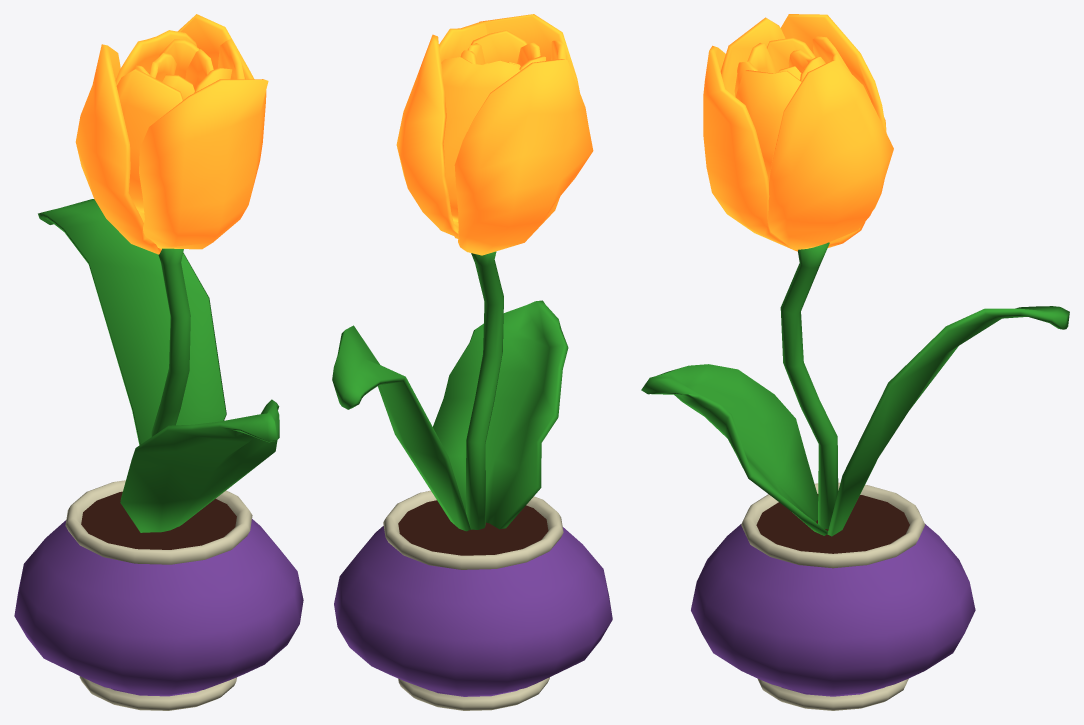
Rendered from tulipane3.glb.
The picture shows the model from 3 angles, left to right: view 1: azimuth 30°, elevation 25°; view 2: azimuth 150°, elevation 25°; view 3: azimuth 270°, elevation 25°; orthographic projection. The views are drawn at different scales.
Parts seen in each view (by area): view 1: Cylinder.008_Material.002_0, Tulip.002_TulipBase_0, Plane.001, Plane.004, Cylinder.008_Material.001_0, Cylinder.009_Material.003_0, Cylinder.010_Material.004_0; view 2: Tulip.002_TulipBase_0, Cylinder.008_Material.002_0, Plane.004, Plane.001, Cylinder.008_Material.001_0, Cylinder.010_Material.004_0, Cylinder.009_Material.003_0; view 3: Tulip.002_TulipBase_0, Cylinder.008_Material.002_0, Plane.004, Plane.001, Cylinder.008_Material.001_0, Cylinder.010_Material.004_0, Cylinder.009_Material.003_0.
Part boxes in pixels (x1,y1,x2,y2): Cylinder.008_Material.002_0: [14, 519, 303, 696]; Tulip.002_TulipBase_0: [75, 14, 268, 254]; Plane.001: [38, 199, 226, 445]; Plane.004: [120, 399, 279, 532]; Cylinder.008_Material.001_0: [65, 480, 252, 710]; Cylinder.009_Material.003_0: [81, 491, 236, 549]; Cylinder.010_Material.004_0: [151, 248, 190, 436]; Tulip.002_TulipBase_0: [396, 14, 593, 255]; Cylinder.008_Material.002_0: [334, 526, 612, 696]; Plane.004: [433, 300, 568, 529]; Plane.001: [332, 325, 470, 531]; Cylinder.008_Material.001_0: [383, 490, 563, 710]; Cylinder.010_Material.004_0: [466, 251, 503, 529]; Cylinder.009_Material.003_0: [398, 500, 548, 555]; Tulip.002_TulipBase_0: [703, 14, 893, 251]; Cylinder.008_Material.002_0: [691, 524, 975, 696]; Plane.004: [641, 364, 827, 535]; Plane.001: [827, 306, 1069, 536]; Cylinder.008_Material.001_0: [741, 482, 924, 710]; Cylinder.010_Material.004_0: [780, 242, 838, 529]; Cylinder.009_Material.003_0: [756, 494, 909, 553].
Size of the model in its own units: 0.4774 by 1.18 by 0.7186.
